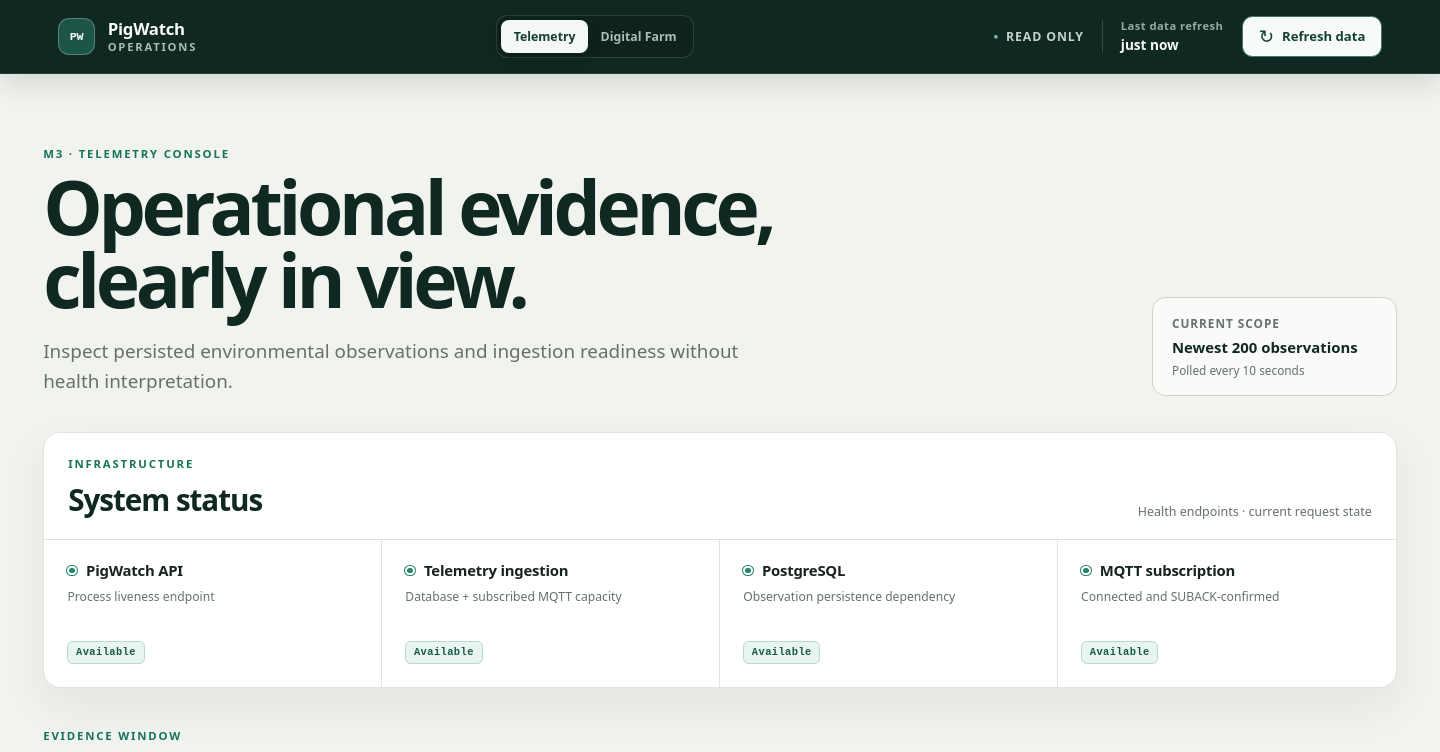
Scenario: M3 dashboard › lets current health failures override retained successful health
This screenshot has width=1440, height=752.
Step 1. Click the button "Refresh data" → (1312,36), box left=1242, top=16, right=1382, bottom=57
(page scrolled)
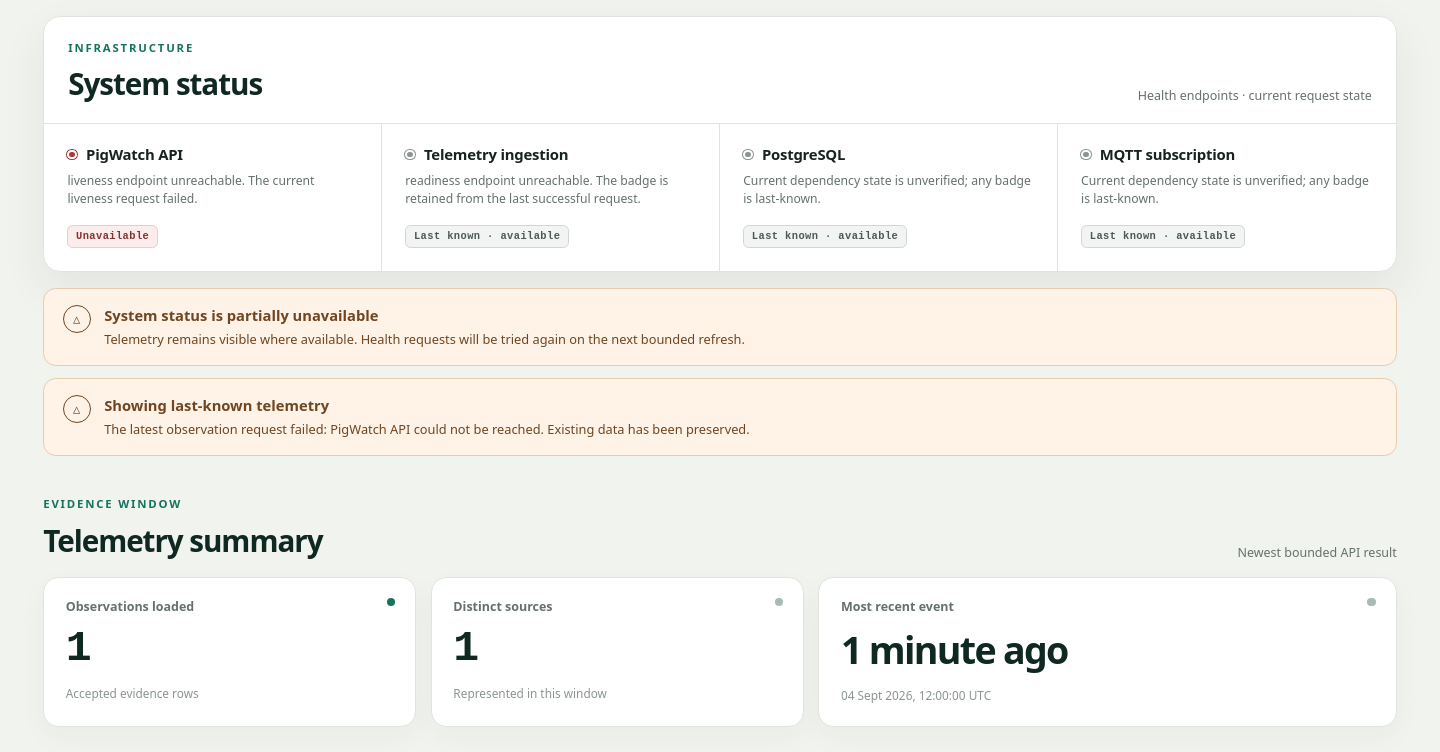
Expected: the element "PigWatch API" shows "Unavailable", left=76, top=230, right=149, bottom=242
Expected: the element "Telemetry ingestion" shows "Last known · available", left=414, top=230, right=560, bottom=242
Expected: the element "PostgreSQL" shows "Last known · available", left=752, top=230, right=898, bottom=242
